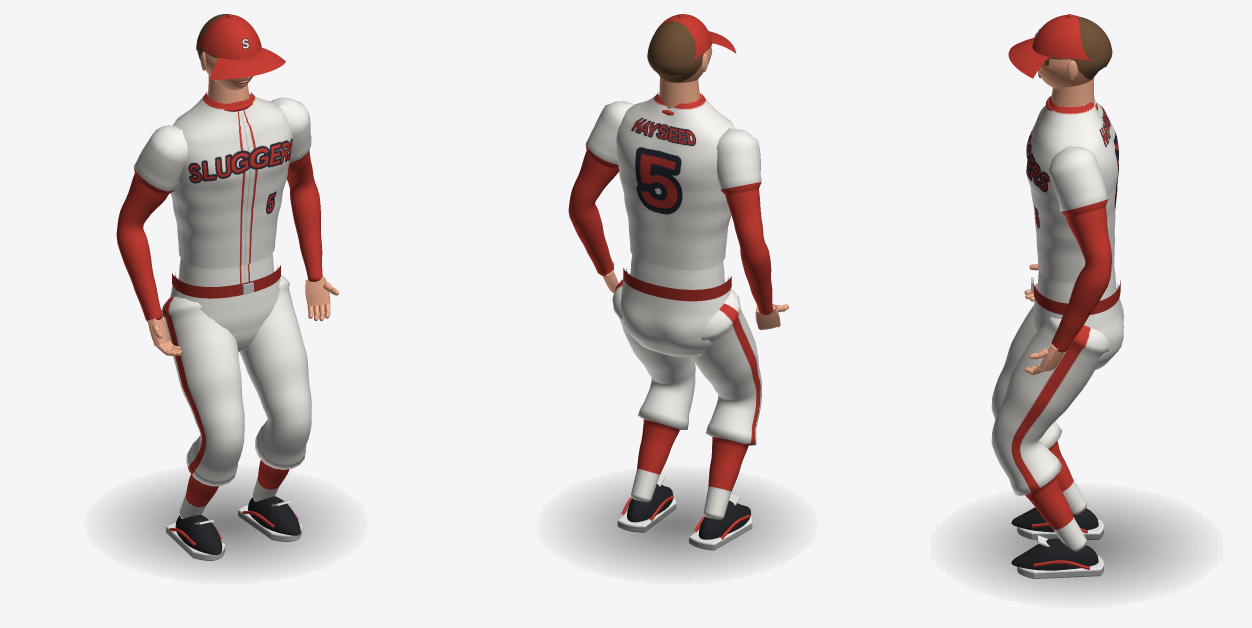
The model's file is player_16_home.glb.
The picture shows the model from 3 angles, left to right: view 1: azimuth 30°, elevation 25°; view 2: azimuth 150°, elevation 25°; view 3: azimuth 270°, elevation 25°; orthographic projection. The views are drawn at different scales.
Visible parts, largest first — view 1: player_16_home, object 30, object 32, object 2; view 2: player_16_home, object 29, object 2, object 30; view 3: player_16_home, object 30, object 29, object 34, object 32, object 2.
Part boxes in pixels (left/top/right/bottom): player_16_home: left=116, top=91, right=334, bottom=570; object 30: left=196, top=14, right=261, bottom=59; object 32: left=209, top=47, right=285, bottom=79; object 2: left=207, top=75, right=249, bottom=102; player_16_home: left=568, top=92, right=785, bottom=570; object 29: left=647, top=21, right=711, bottom=76; object 2: left=659, top=77, right=700, bottom=108; object 30: left=652, top=14, right=712, bottom=64; player_16_home: left=966, top=96, right=1187, bottom=592; object 30: left=1032, top=14, right=1112, bottom=60; object 29: left=1049, top=16, right=1112, bottom=67; object 34: left=1038, top=58, right=1103, bottom=88; object 32: left=1008, top=37, right=1049, bottom=78; object 2: left=1051, top=77, right=1094, bottom=106.
Bounding box in the file's own units: 3.4 × 6.29 × 3.4.
27 materials, 5 textured.
